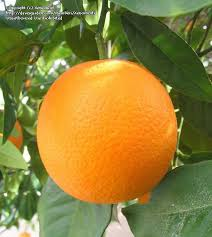orange: (34, 63, 177, 204)
